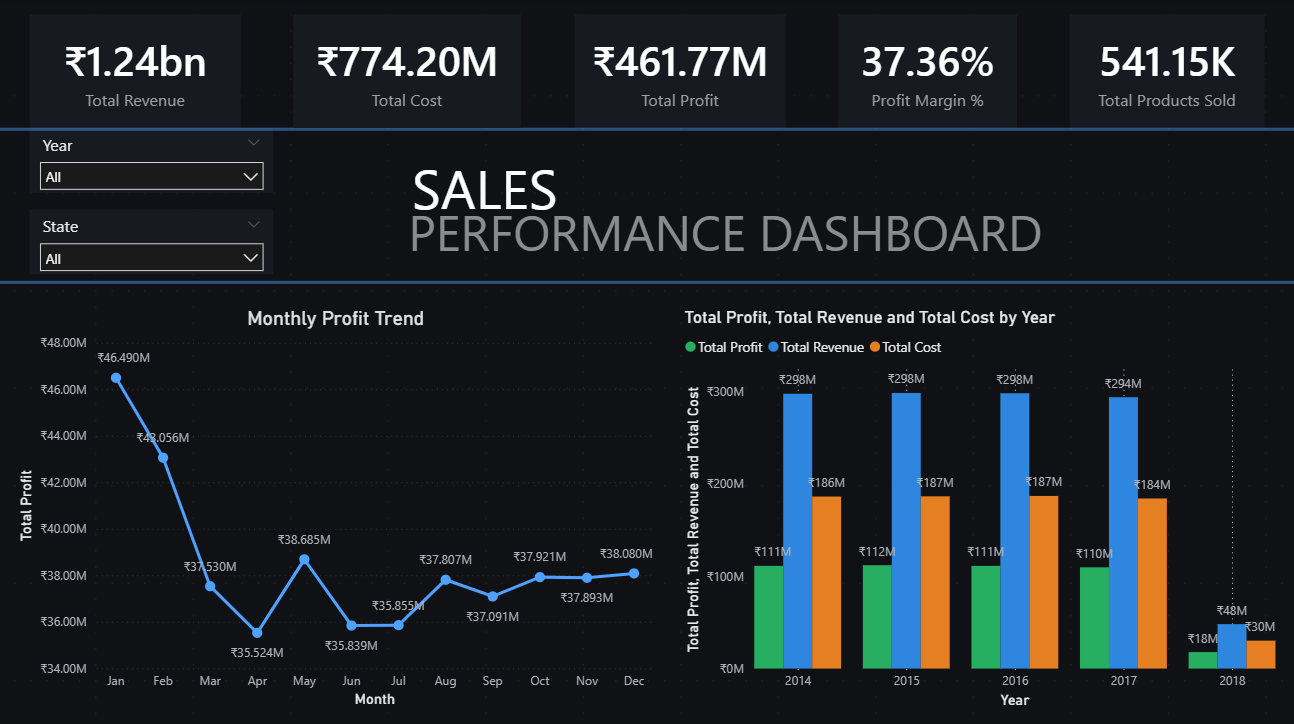

What the dashboard file says about the page in this screenshot:
{"tool":"powerbi","page":{"name":"Dashboard","canvas":[1280,720],"ordinal":0},"visuals":[{"type":"card","fields":{"Values":["merged_sales_data.Total Profit"]},"box":[568,16,208,112],"z":0},{"type":"card","fields":{"Values":["merged_sales_data.Total Revenue"]},"box":[32,16,208,112],"z":1000},{"type":"card","title":"Profit Margin %","fields":{"Values":["merged_sales_data.Profit Margin %"]},"box":[828,16,176,112],"z":2000},{"type":"card","fields":{"Values":["merged_sales_data.Total_Products_Sold"]},"box":[1056,16,192,112],"z":3000},{"type":"slicer","fields":{"Values":["DateTable.Year"]},"box":[32,128,240,64],"z":4000},{"type":"slicer","fields":{"Values":["merged_sales_data.state"]},"box":[32,208,240,64],"z":5000},{"type":"lineChart","title":"Monthly Profit Trend","fields":{"Category":["DateTable.Month"],"Y":["merged_sales_data.Total Profit"]},"box":[16,304,635,400],"z":6000},{"type":"textbox","box":[403.7,144.9,208,96],"z":7000},{"type":"textbox","box":[400,192,656,144],"z":8000},{"type":"shape","box":[0,65,1280,128],"z":9000},{"type":"shape","box":[0,208,1280,144],"z":10000},{"type":"clusteredColumnChart","fields":{"Category":["DateTable.Year"],"Y":["merged_sales_data.Total Profit","merged_sales_data.Total Revenue","merged_sales_data.Total Cost"]},"box":[672,304,592,400],"z":11000},{"type":"card","fields":{"Values":["merged_sales_data.Total Cost"]},"box":[292,16,224,112],"z":12000}]}

Visuals, with their boxes in screenshot pixels (x1, y1, x2, y2), scaled from the page's 1280x720 canvas onto the 1294x724 screenshot:
card - merged_sales_data.Total Profit: box(574, 16, 784, 129)
card - merged_sales_data.Total Revenue: box(32, 16, 243, 129)
"Profit Margin %" card: box(837, 16, 1015, 129)
card - merged_sales_data.Total_Products_Sold: box(1068, 16, 1262, 129)
slicer - DateTable.Year: box(32, 129, 275, 193)
slicer - merged_sales_data.state: box(32, 209, 275, 274)
"Monthly Profit Trend" lineChart: box(16, 306, 658, 708)
textbox: box(408, 146, 618, 242)
textbox: box(404, 193, 1068, 338)
shape: box(0, 65, 1293, 194)
shape: box(0, 209, 1293, 354)
clusteredColumnChart - DateTable.Year x merged_sales_data.Total Profit: box(679, 306, 1278, 708)
card - merged_sales_data.Total Cost: box(295, 16, 522, 129)
